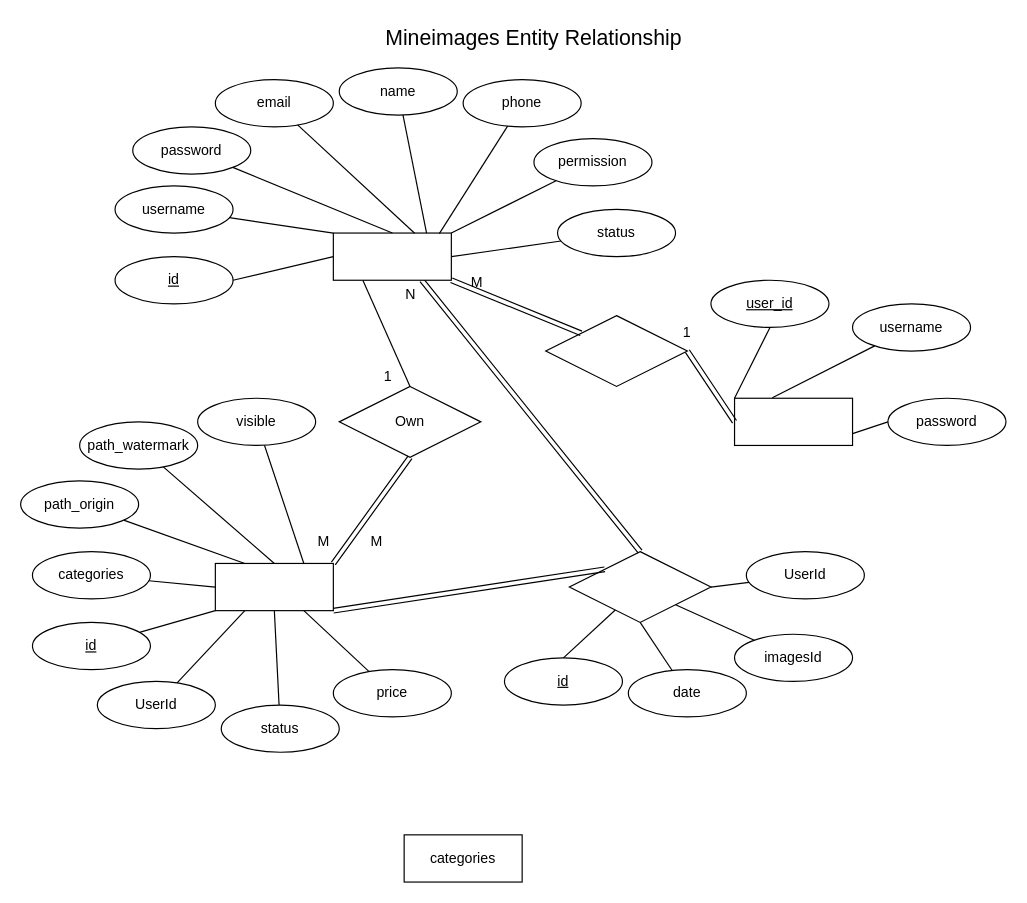
Some shapes in this 1027 by 903 pixel diagram are drawn without their labels. Here are the shapes that lost their labels. From the top down, the box of each, then its label:
(332, 232, 451, 280): Users
(545, 314, 687, 386): manage
(733, 397, 853, 445): Admin
(214, 562, 333, 611): images
(568, 550, 711, 622): Orders
